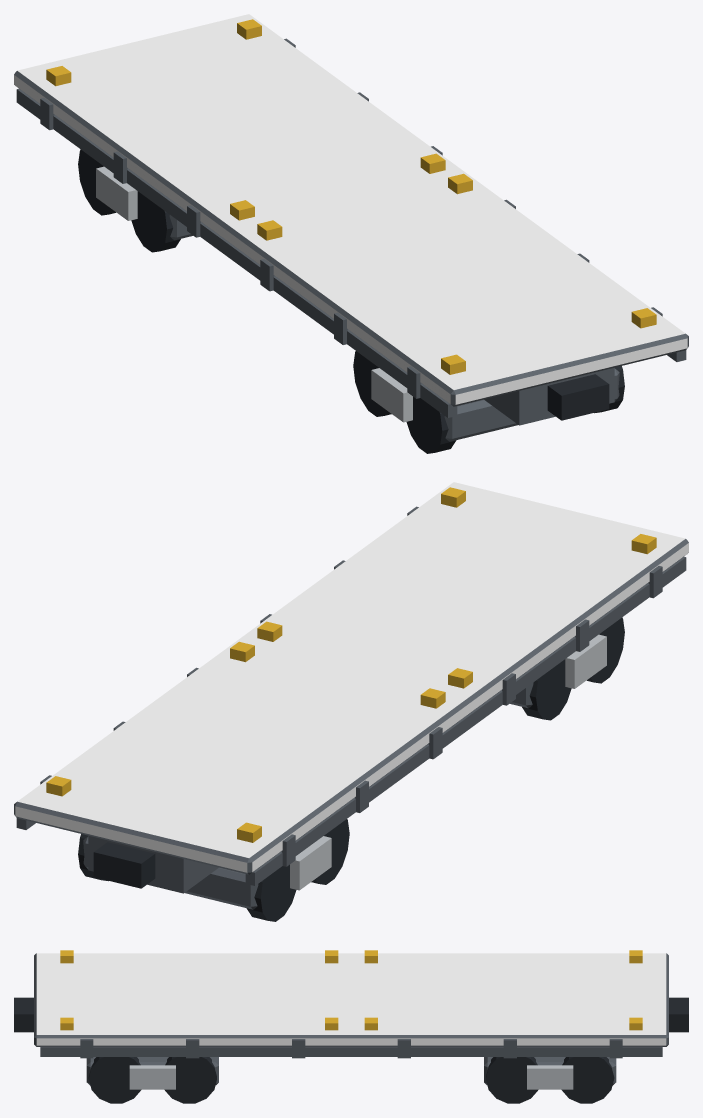
Rendered from train_car.glb.
The picture shows the model from 3 angles, top to bottom: view 1: azimuth 30°, elevation 25°; view 2: azimuth 150°, elevation 25°; view 3: azimuth 270°, elevation 25°; orthographic projection. The views are drawn at different scales.
Visible parts, largest first — view 1: TrainCar; view 2: TrainCar; view 3: TrainCar.
Part boxes in pixels (<box>): TrainCar: <box>14,14,688,453</box>; TrainCar: <box>14,482,688,921</box>; TrainCar: <box>14,950,688,1103</box>.
Bounding box in the file's own units: 0.31 × 0.1409 × 1.02.
